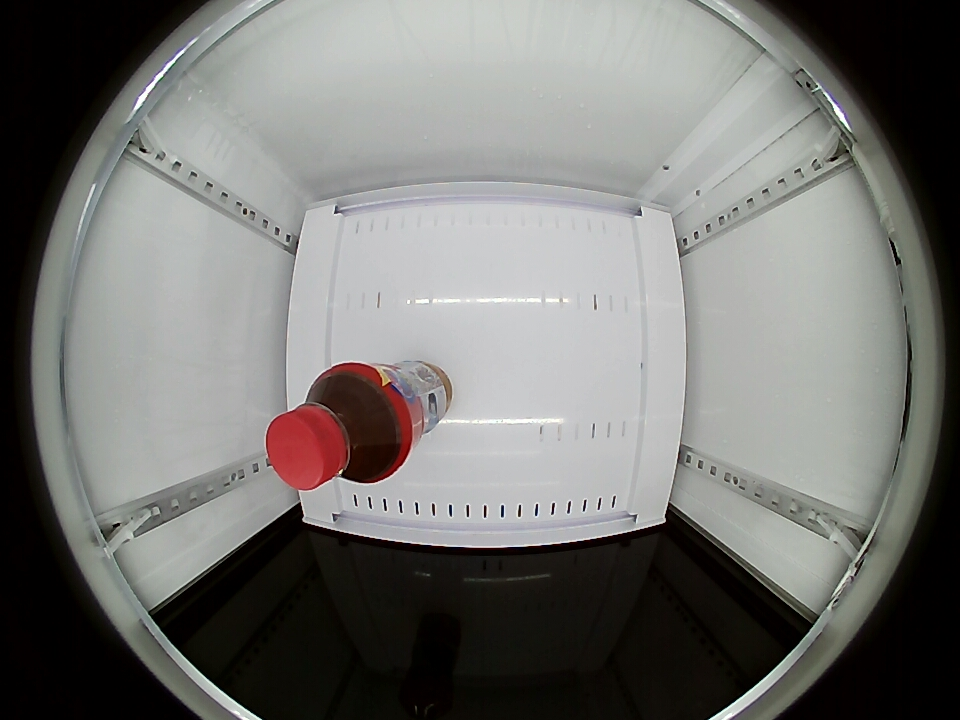binghongcha: (265, 363, 414, 490)
